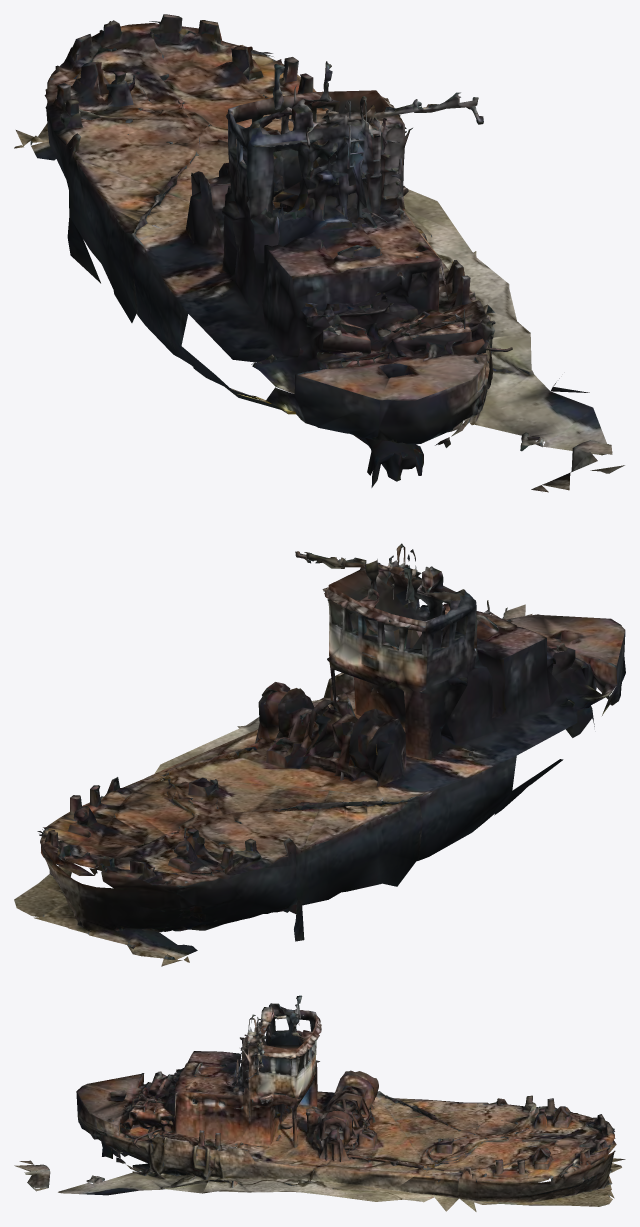
Rendered from ginnanmaru.glb.
3 views of the same model, one above another, from view 1: azimuth 30°, elevation 25°; view 2: azimuth 150°, elevation 25°; view 3: azimuth 270°, elevation 25° (orthographic). The views are drawn at different scales.
Visible parts, largest first — view 1: Mesh_0_Part_0; view 2: Mesh_0_Part_0; view 3: Mesh_0_Part_0.
Part boxes in pixels (x1,y1,x2,y2): Mesh_0_Part_0: (14,14,624,492); Mesh_0_Part_0: (14,543,625,966); Mesh_0_Part_0: (14,995,625,1211).
Bounding box in the file's own units: 5.8 × 4.82 × 14.06.
1 material, 1 textured.
